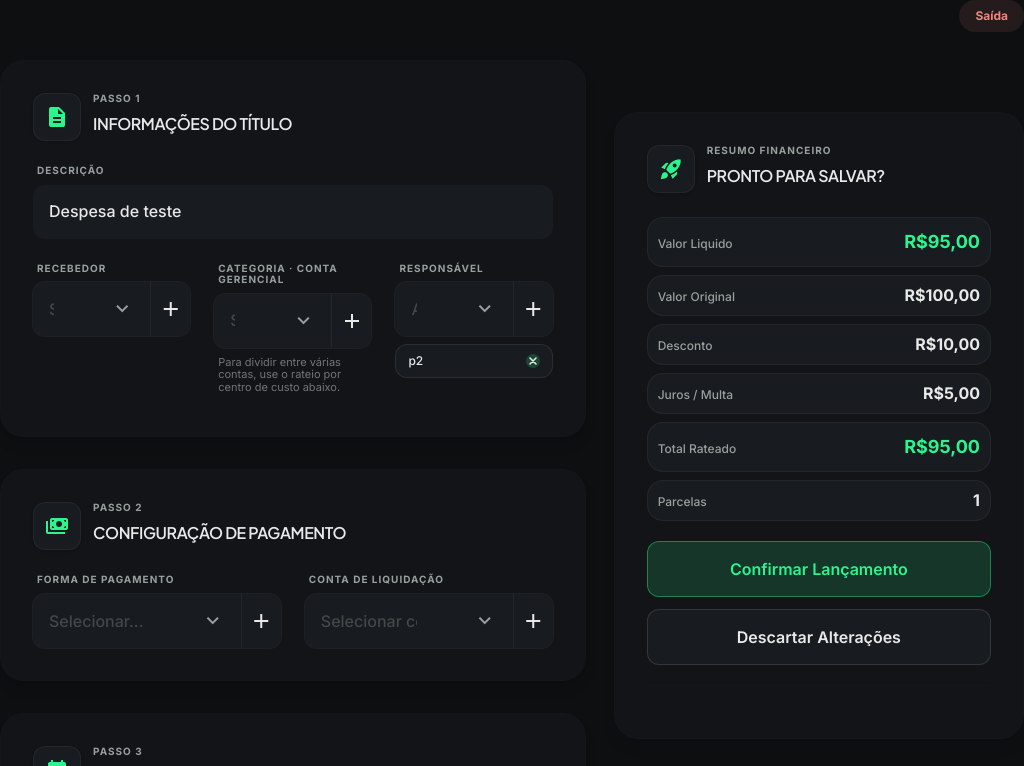
Test: FinancialAccountFormPage › shows fatura-indisponivel dialog when create throws FATURA_INDISPONIVEL error
Step 1. Click the button "Confirmar Lançamento" → (819, 569), box left=647, top=541, right=991, bottom=597
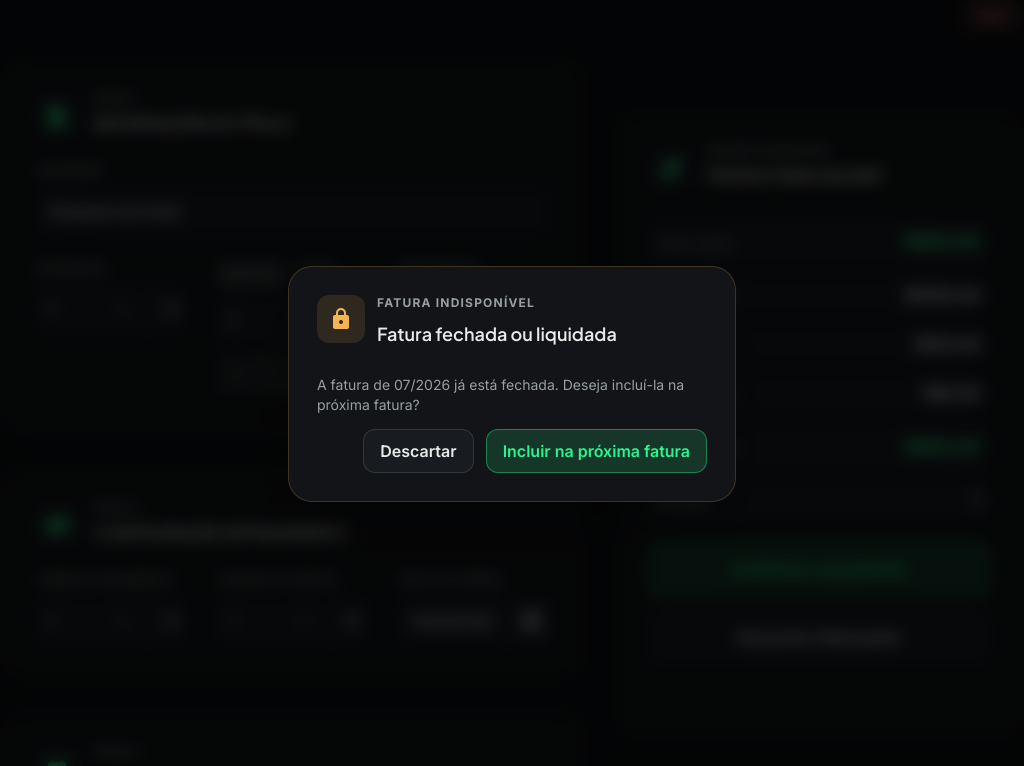
Result: the heading "Fatura fechada ou liquidada" is shown at left=377, top=323, right=617, bottom=346
Result: the text "07/2026" is shown at left=317, top=376, right=684, bottom=413
Step 2. Click the button "Descartar" → (418, 451), box left=363, top=429, right=474, bottom=473
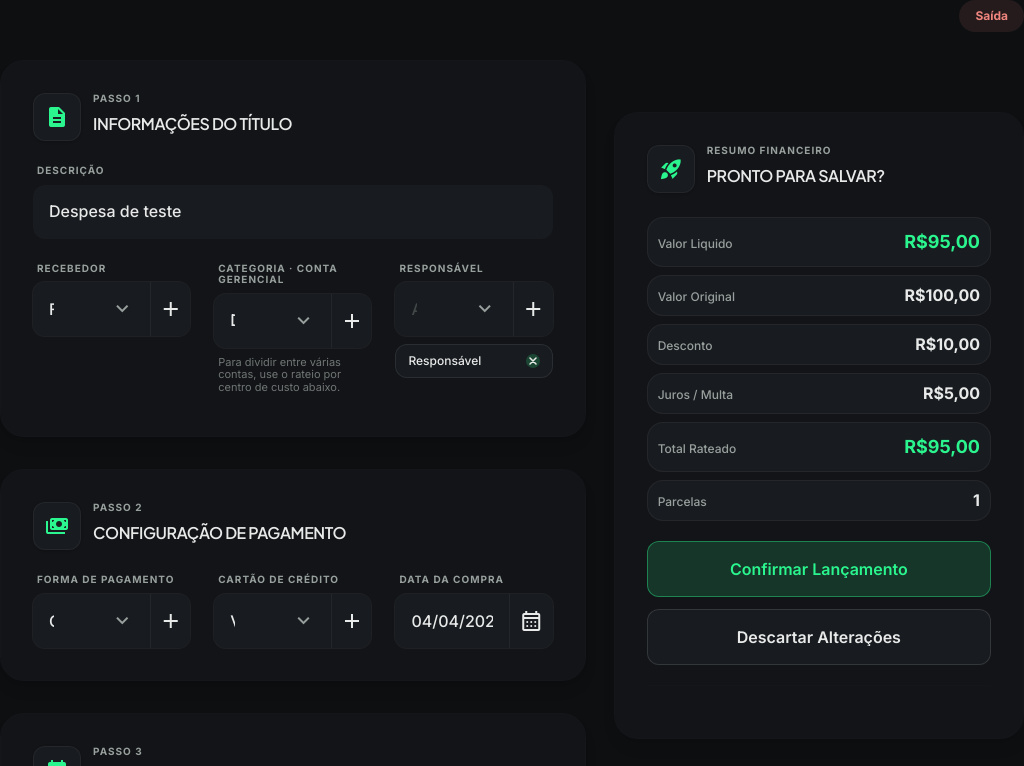
Result: the heading "Fatura fechada ou liquidada" is gone
